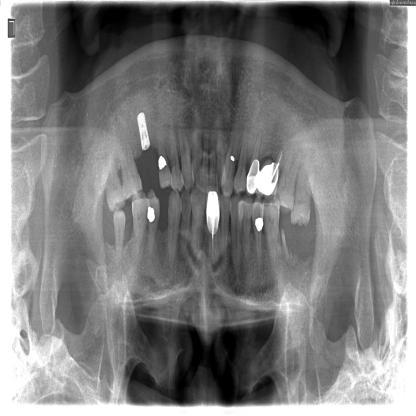ITI: (132, 109, 151, 155)
